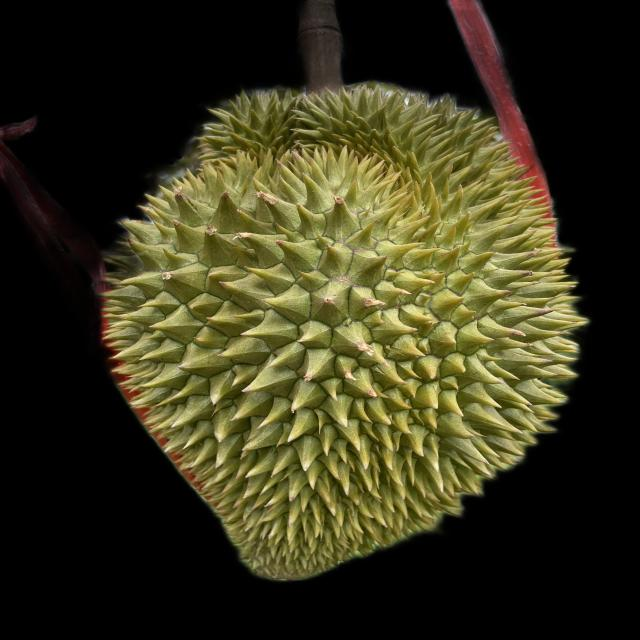immature: (108, 83, 586, 588)
